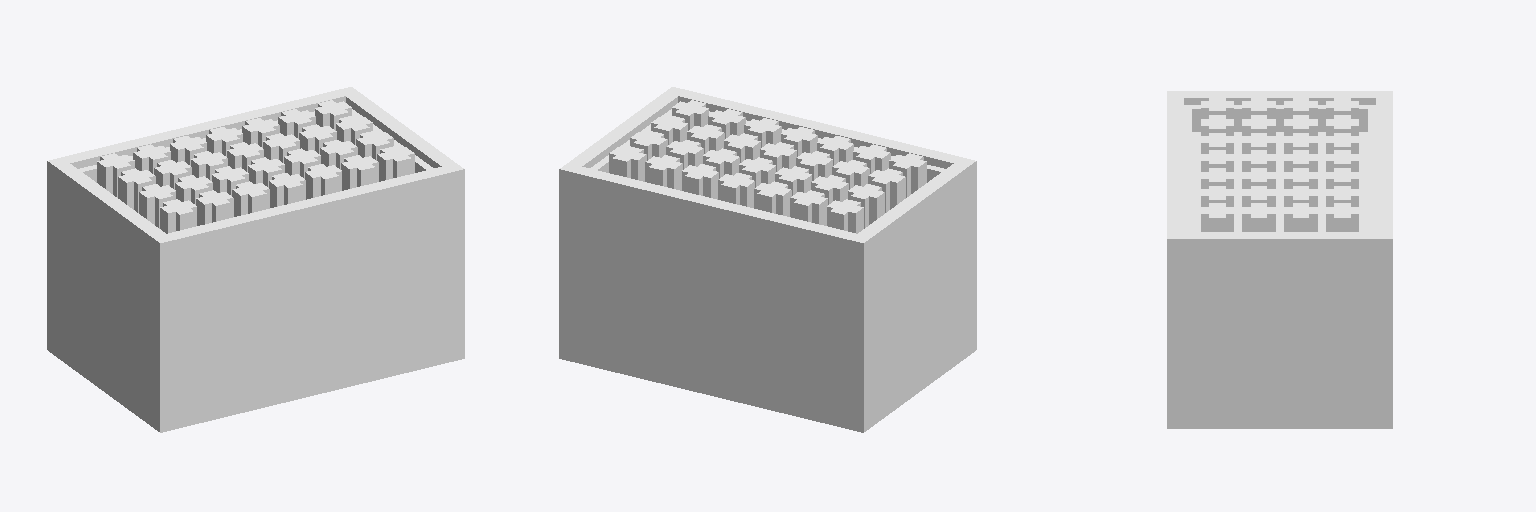
File: ShotgunAmmo.obj
The picture shows the model from 3 angles: view 1: azimuth 30°, elevation 25°; view 2: azimuth 150°, elevation 25°; view 3: azimuth 270°, elevation 25°; orthographic projection.
Visible parts, largest first — view 1: object 1; view 2: object 1; view 3: object 1.
Boxes of the visible parts, <box> form: object 1: <box>47,87,464,432</box>; object 1: <box>559,87,976,432</box>; object 1: <box>1167,91,1392,428</box>.
Bounding box in the file's own units: 4.2 × 2.6 × 2.7.